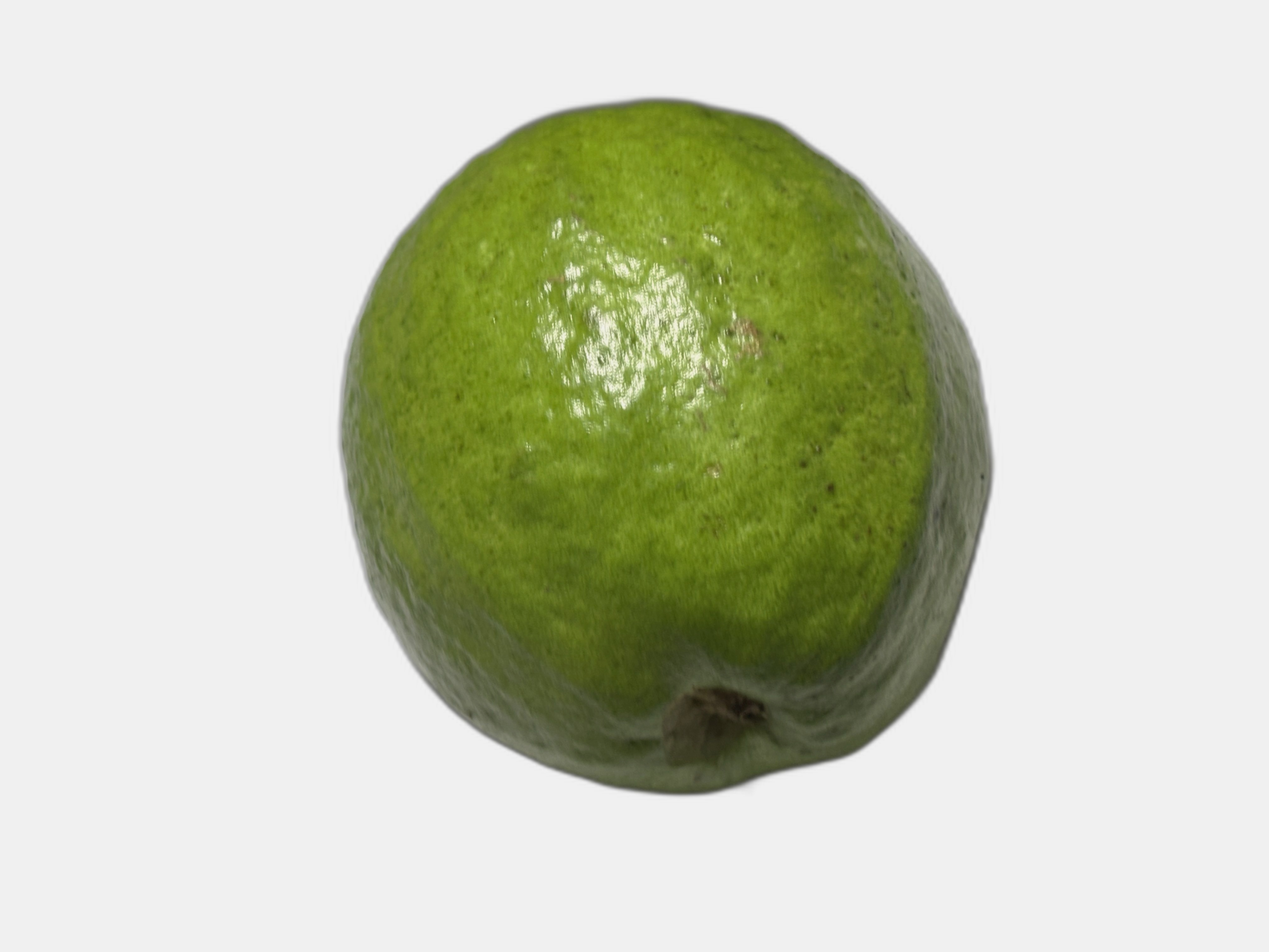guava: (130, 126, 1132, 740)
